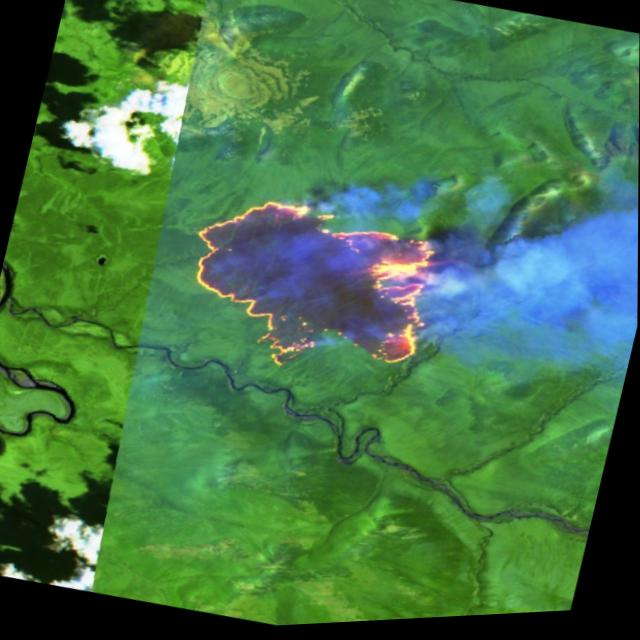fire: (164, 170, 465, 410)
